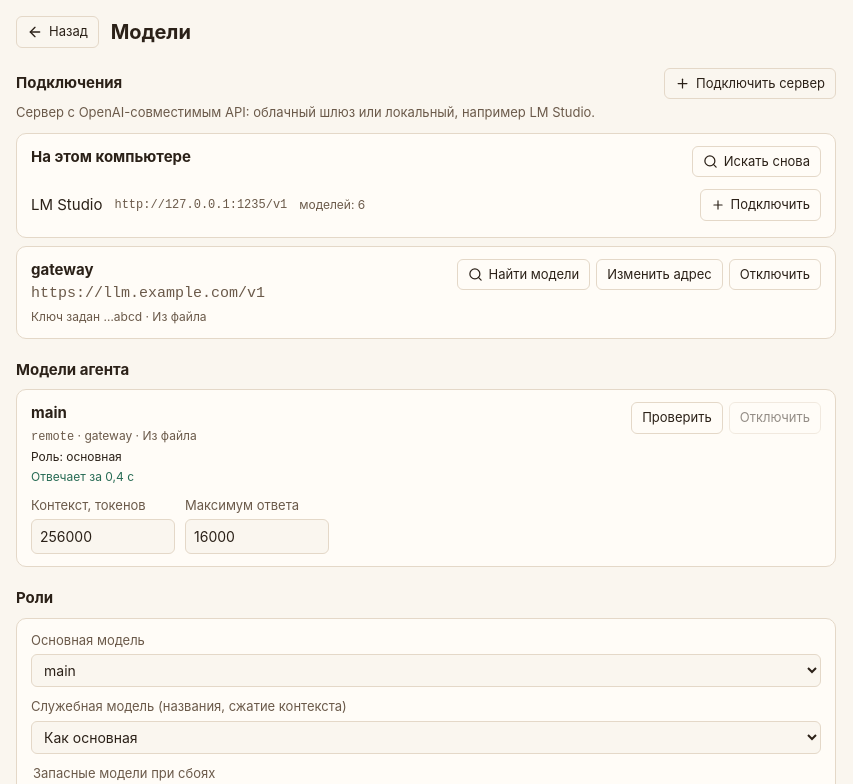
Test: SettingsModelsView › finds a running local server and connects it with one click
Expected: the list item "LM Studio http://127.0.0.1:1235/v1 моделей: 6 Подключить" is shown, [31, 185, 821, 224]
Click the button with test id "local-connect".
click(760, 205)  # box [700, 189, 821, 220]
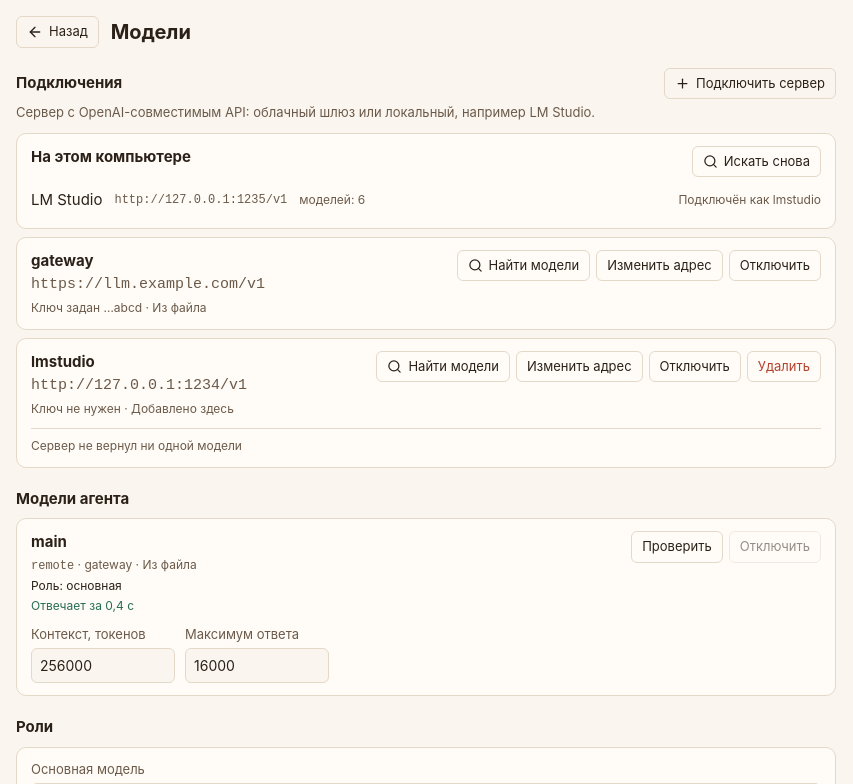
Expected: the list item shows "Подключён как lmstudio", [678, 192, 821, 207]
